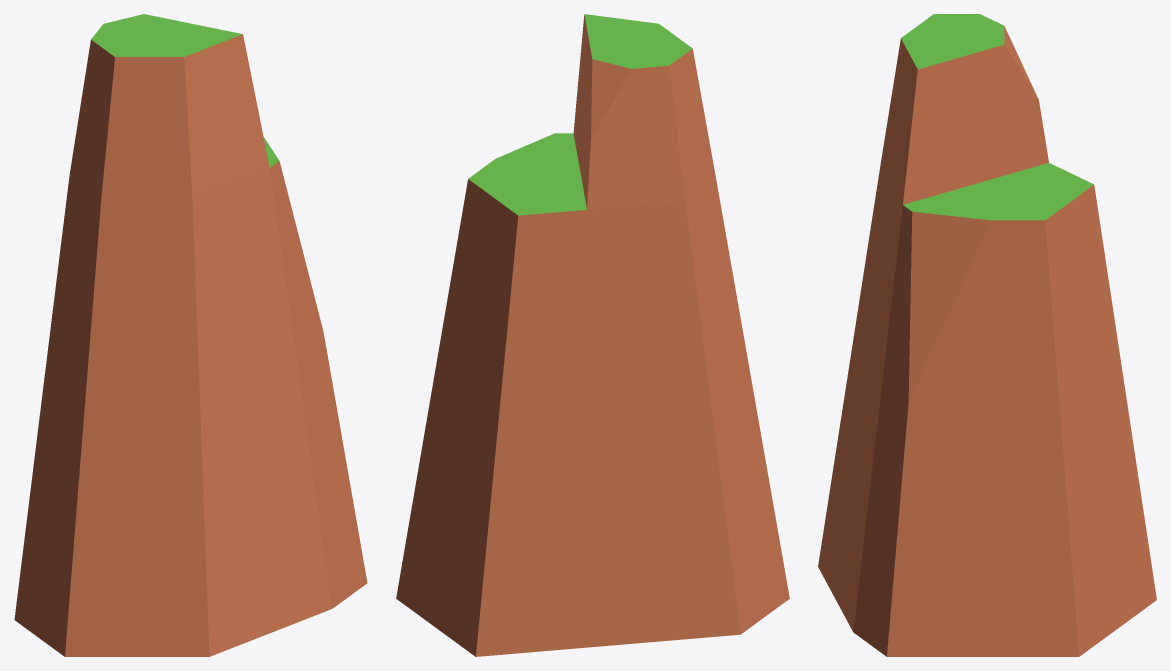
Rendered from rock_tallI.glb.
3 views of the same model, side by side, from view 1: azimuth 30°, elevation 25°; view 2: azimuth 150°, elevation 25°; view 3: azimuth 270°, elevation 25° (orthographic). The views are drawn at different scales.
Visible parts, largest first — view 1: rock_tallI; view 2: rock_tallI; view 3: rock_tallI.
Part boxes in pixels (x1,y1,x2,y2): rock_tallI: (14,14,367,656); rock_tallI: (396,14,789,656); rock_tallI: (818,14,1156,656).
Bounding box in the file's own units: 0.4562 × 0.8118 × 0.4644.
